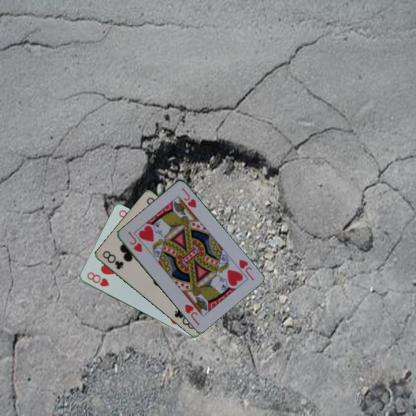8c: (100, 248, 125, 271)
8h: (84, 269, 110, 288)
Jh: (236, 256, 255, 282), (126, 229, 144, 254)
